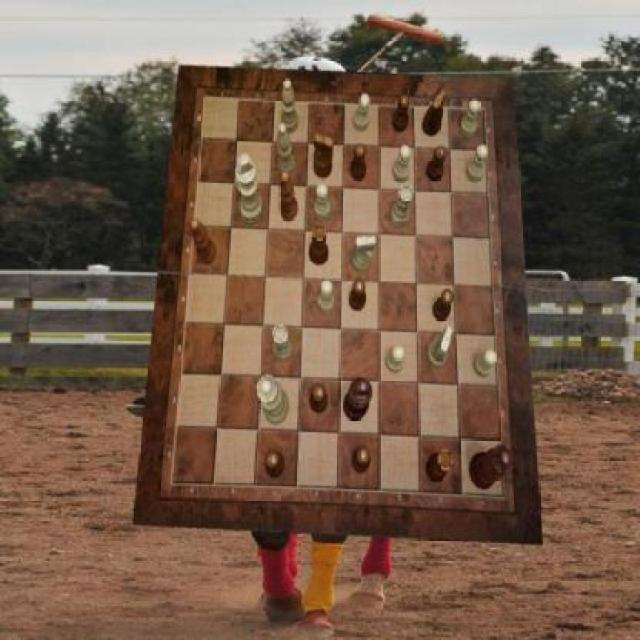bishop: (192, 219, 217, 266), (278, 170, 298, 222)
black-bishop: (343, 377, 373, 421)
black-king: (422, 90, 446, 136), (314, 132, 334, 178)
black-knight: (426, 146, 447, 181), (434, 289, 454, 322), (394, 94, 411, 132), (350, 143, 366, 181), (349, 280, 366, 312), (264, 452, 284, 478), (311, 384, 328, 414), (352, 446, 370, 472)
black-pawn: (469, 445, 514, 490)
black-queen: (426, 449, 454, 483), (309, 225, 329, 266)
black-rook: (277, 123, 296, 178), (280, 79, 298, 133)
white-bishop: (235, 154, 263, 226)
white-king: (428, 325, 454, 367), (354, 236, 377, 272)
white-knight: (466, 145, 489, 182), (460, 100, 481, 138), (472, 349, 496, 377), (314, 183, 331, 221), (354, 94, 371, 132), (394, 145, 411, 182), (318, 279, 336, 313), (386, 346, 406, 374)
white-pawn: (257, 374, 290, 424)
white-queen: (391, 185, 414, 227), (272, 325, 293, 362)
